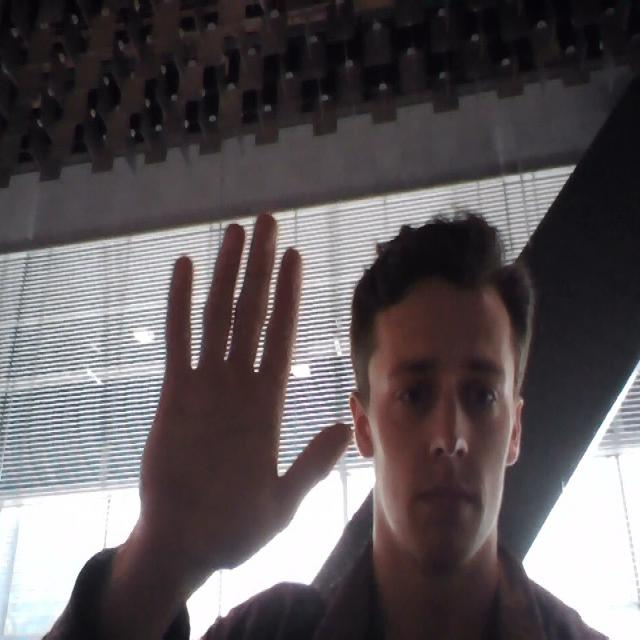backward: (131, 197, 354, 576)
